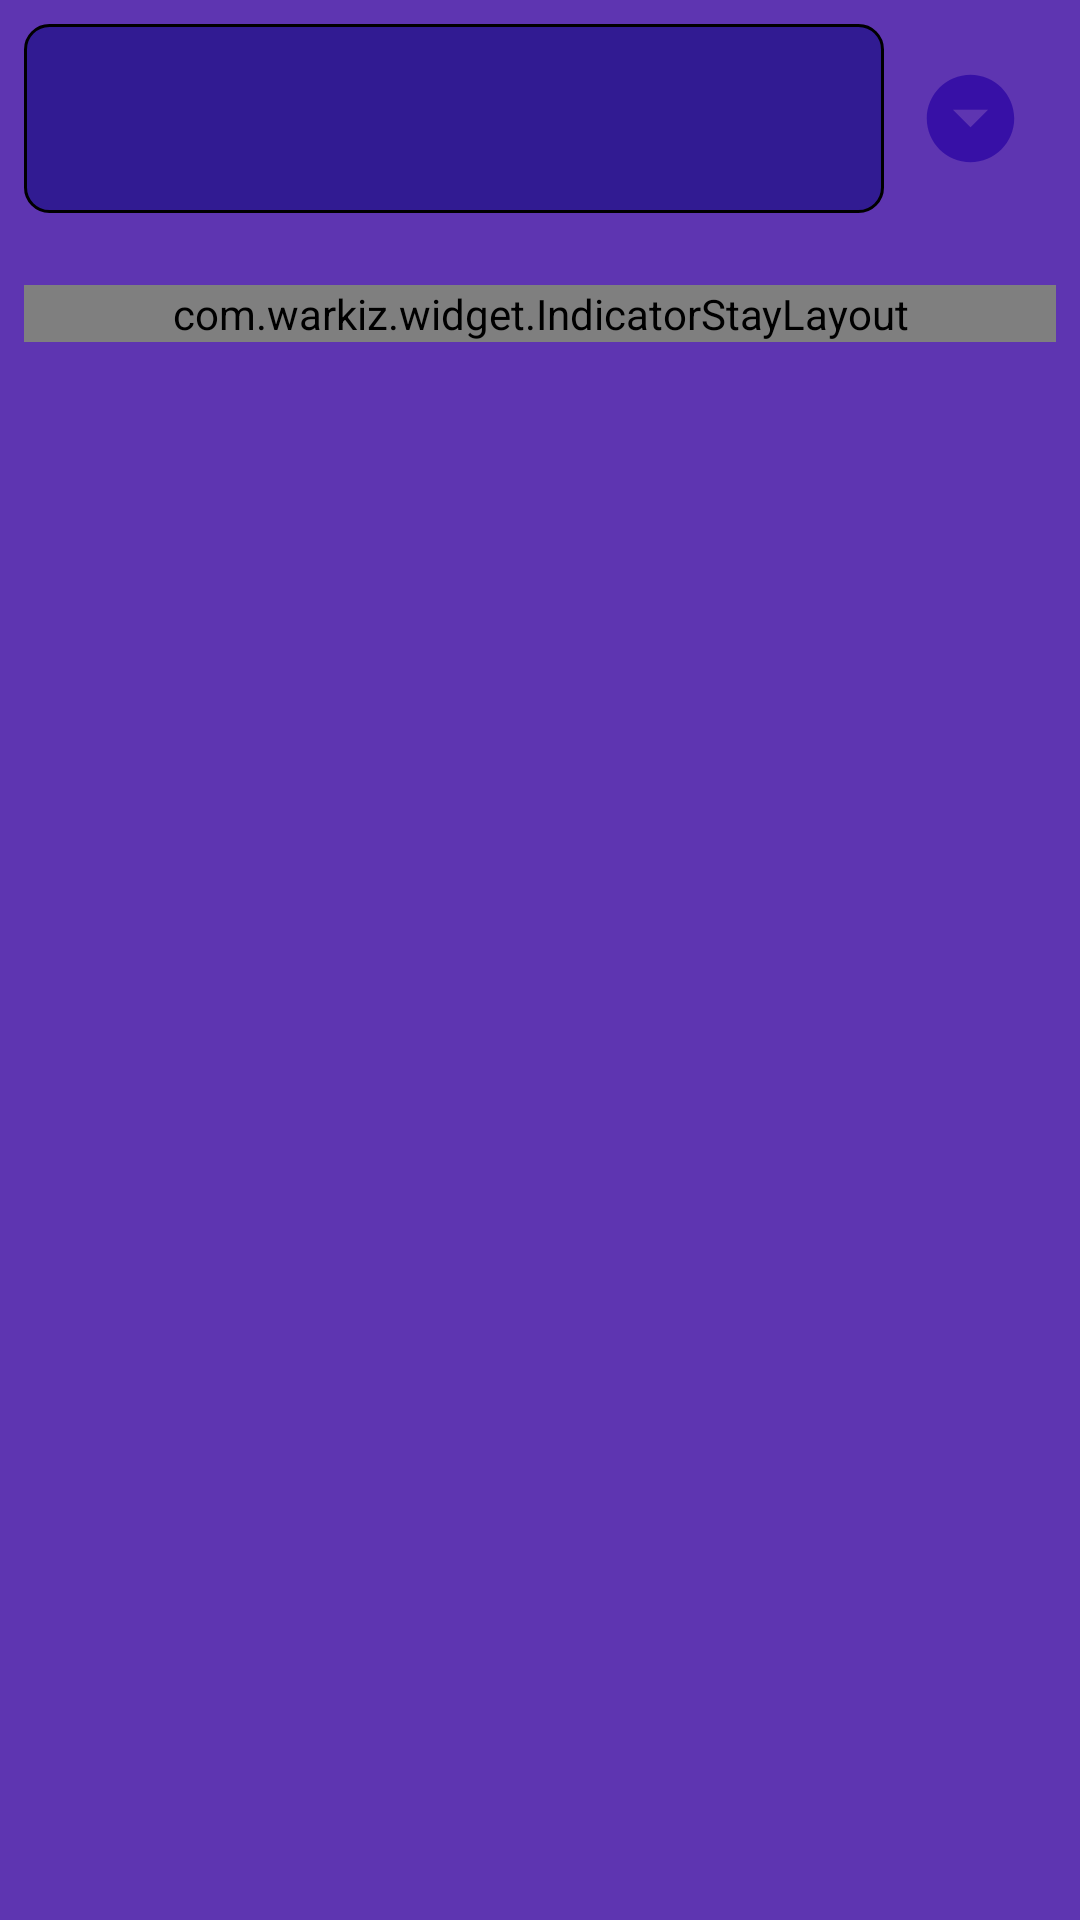

Screen size 1080w x 1920h. Icon name, then its box in pixels as (x1, y1, x2, y2):
arrow drop down circle: (927, 75, 1014, 162)
